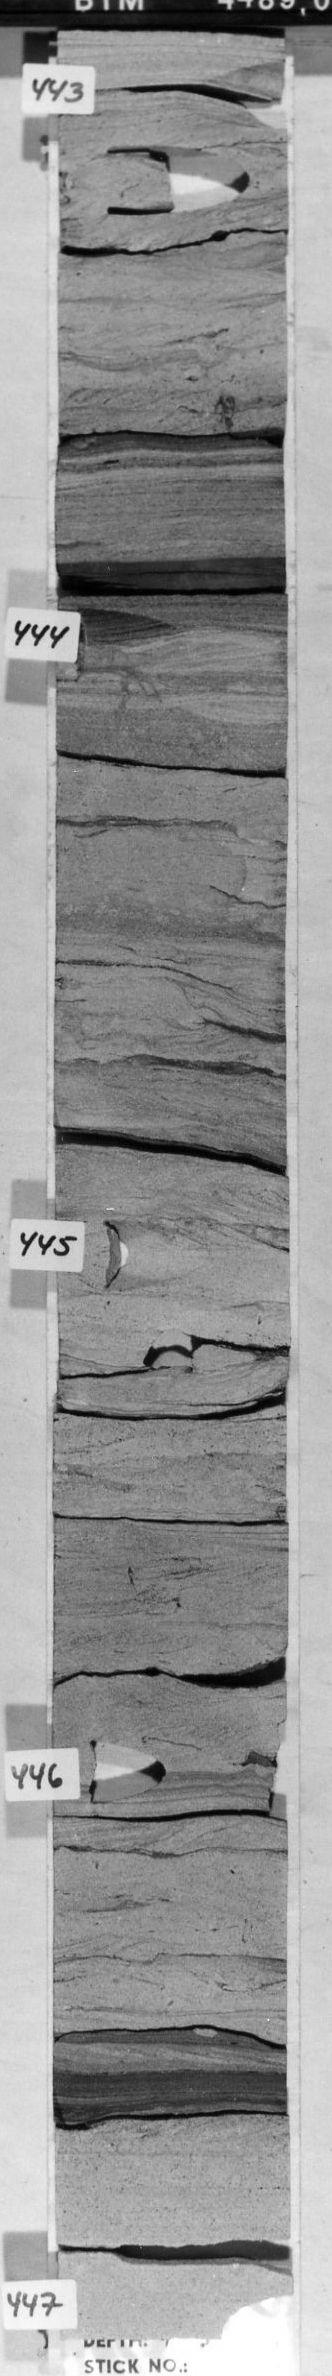hplug: (92, 129, 262, 224), (92, 1212, 211, 1296), (83, 1734, 180, 1812)
vplug: (133, 1323, 209, 1382)
